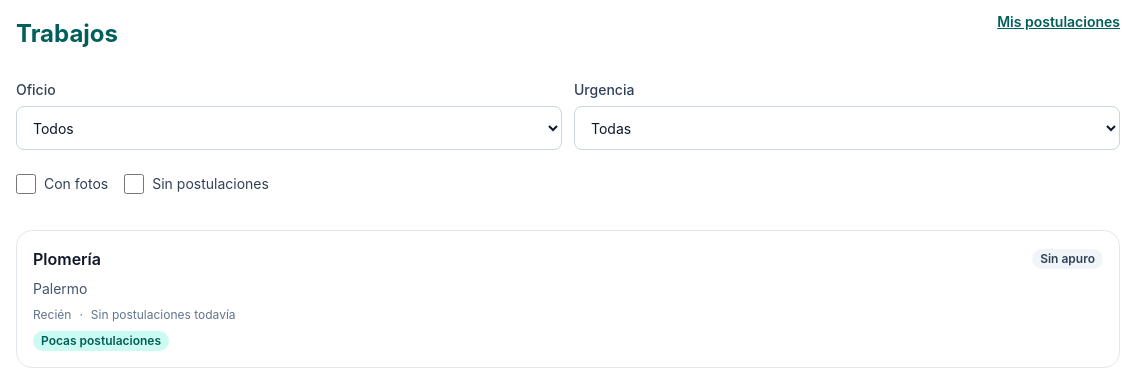
Test: FeedTrabajosPage › muestra el vacio por filtros cuando hay filtros activos y no hay pedidos
Expected: the link "Plomería" is shown, [16, 230, 1120, 368]
Step 1. Select "Emergencia" in the dropdown labelled "Urgencia" → (847, 128), box [574, 106, 1120, 150]
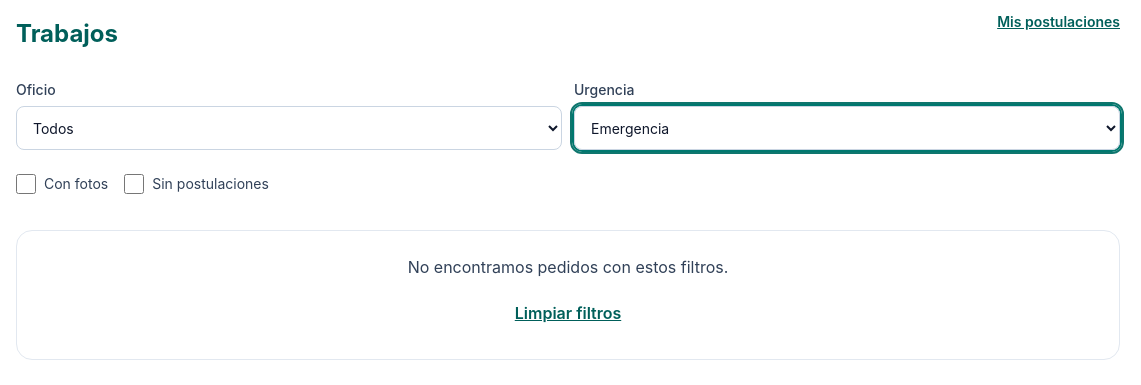
Now the text "No encontramos pedidos con estos filtros." is shown, box [408, 255, 728, 279]
Step 2. Click the button "Limpiar filtros" → click(568, 313), box [515, 291, 621, 335]
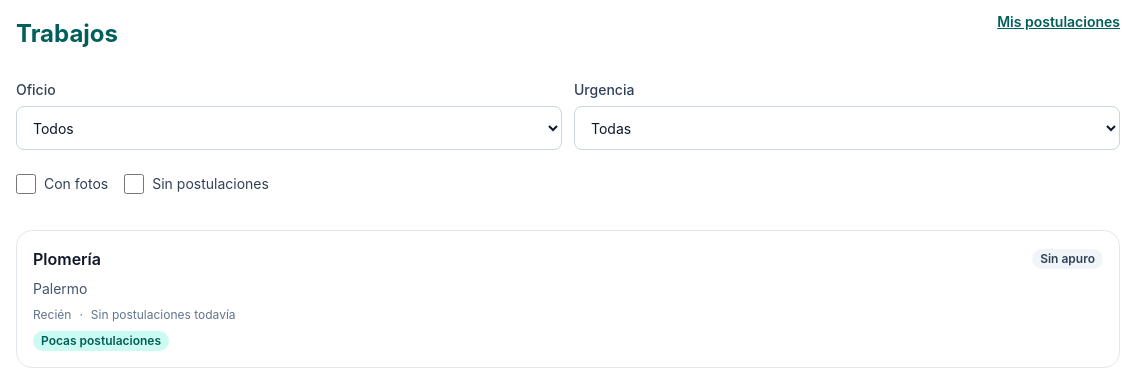
Now the link "Plomería" is shown, box [16, 230, 1120, 368]
